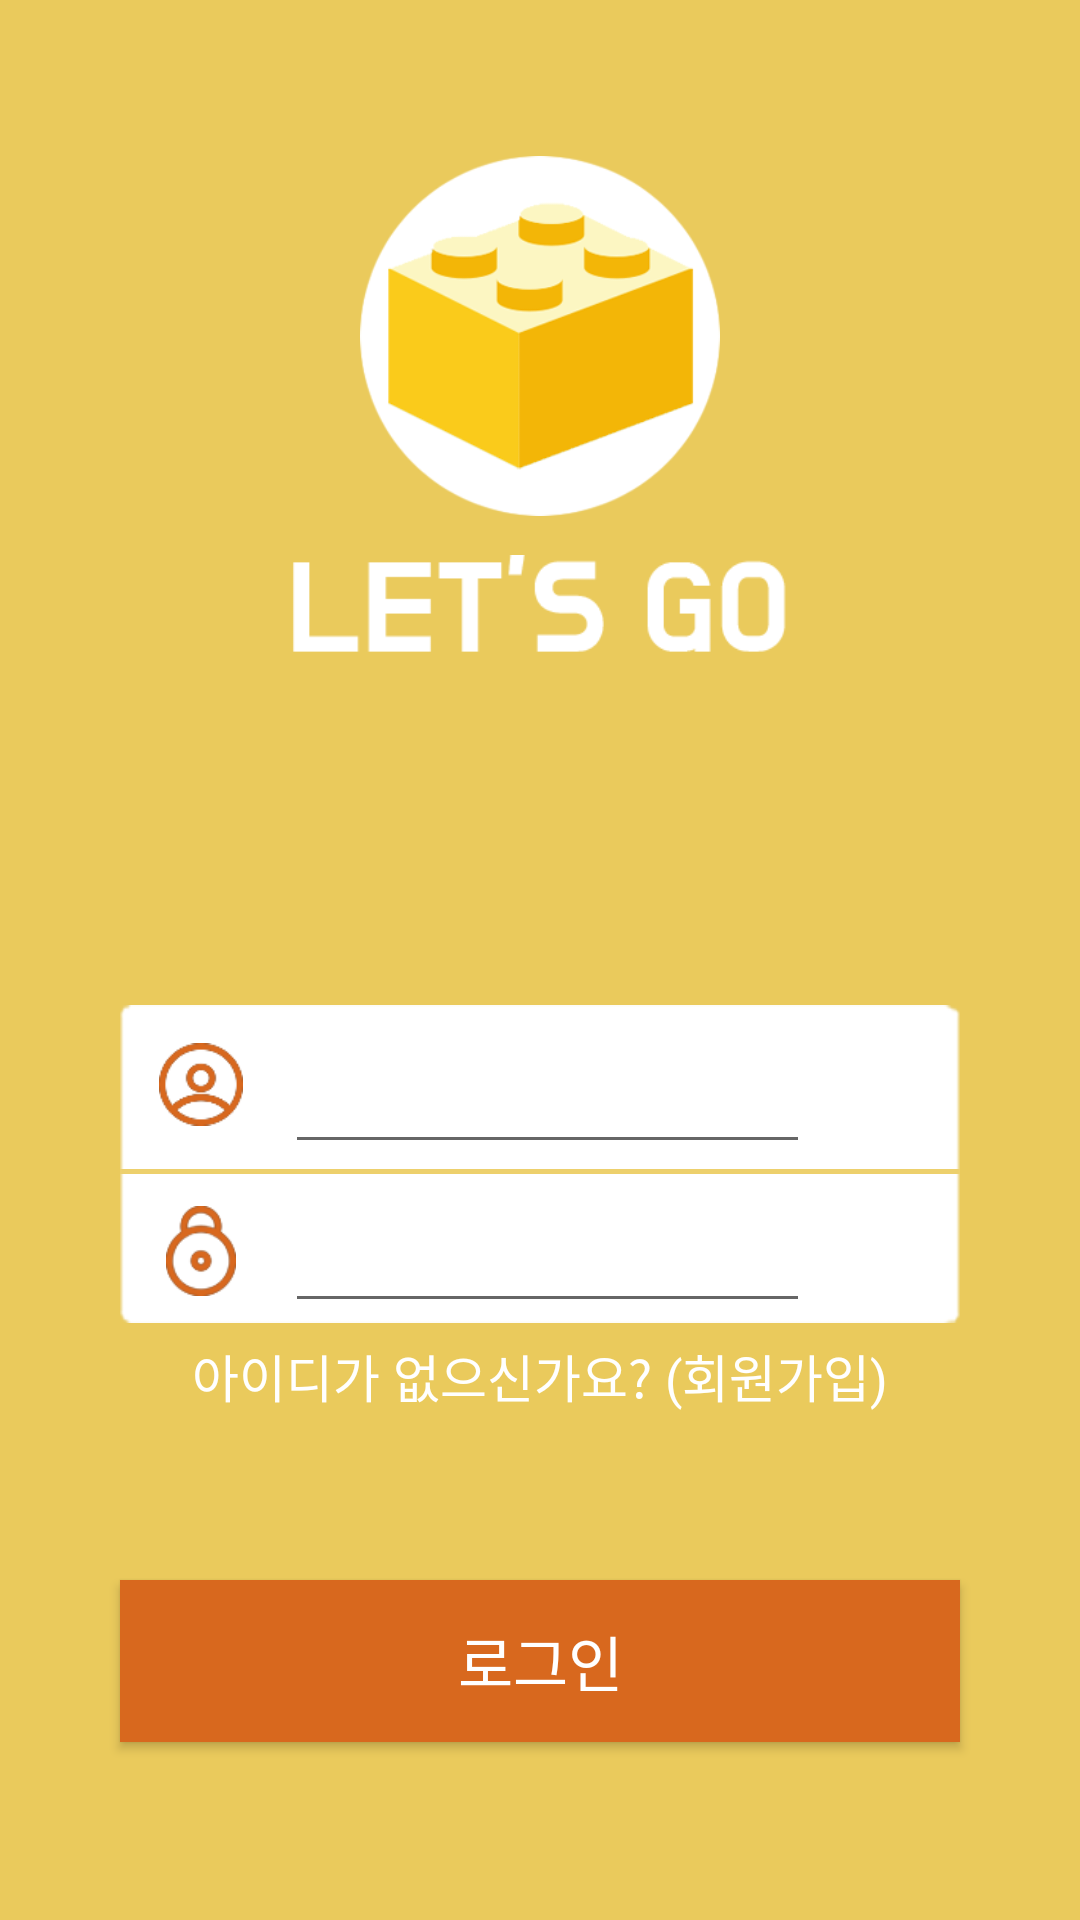

Where to tap for icons on this 1080w x 1920h app screen, as (x,y):
loginicon: (201,1084)
pwicon: (201,1251)
